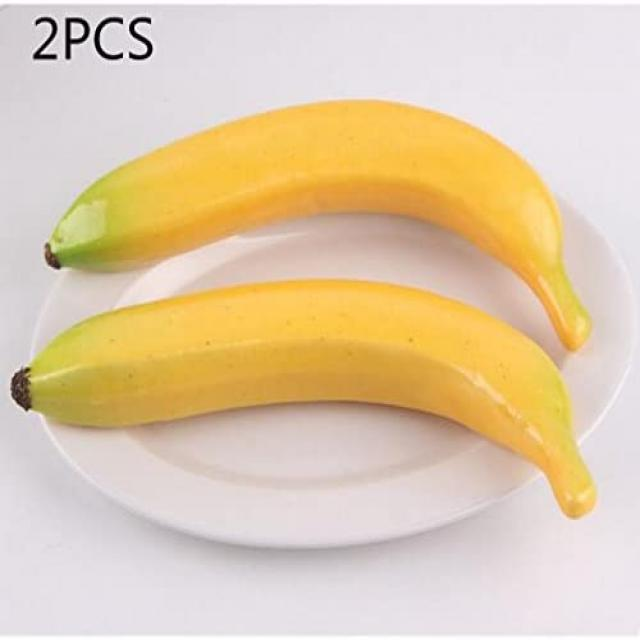banana: (9, 292, 596, 516), (46, 93, 576, 291)
